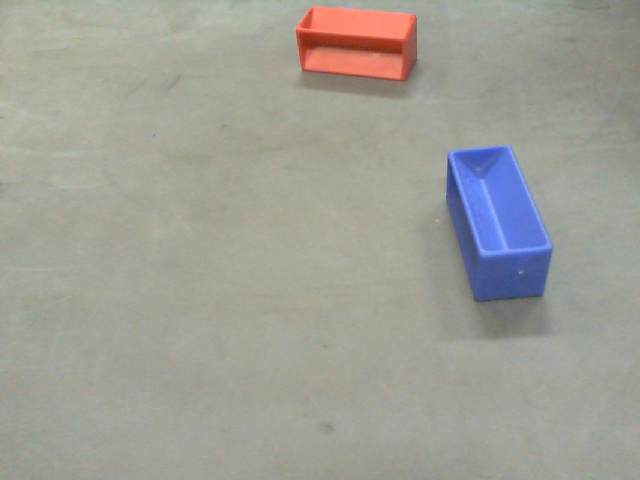BlueSample: (443, 143, 556, 307)
RedSample: (294, 5, 423, 82)
